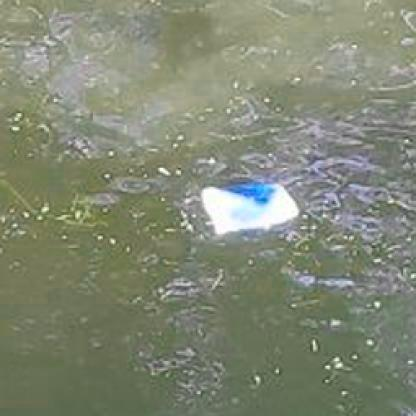Trash: (201, 178, 303, 236)
